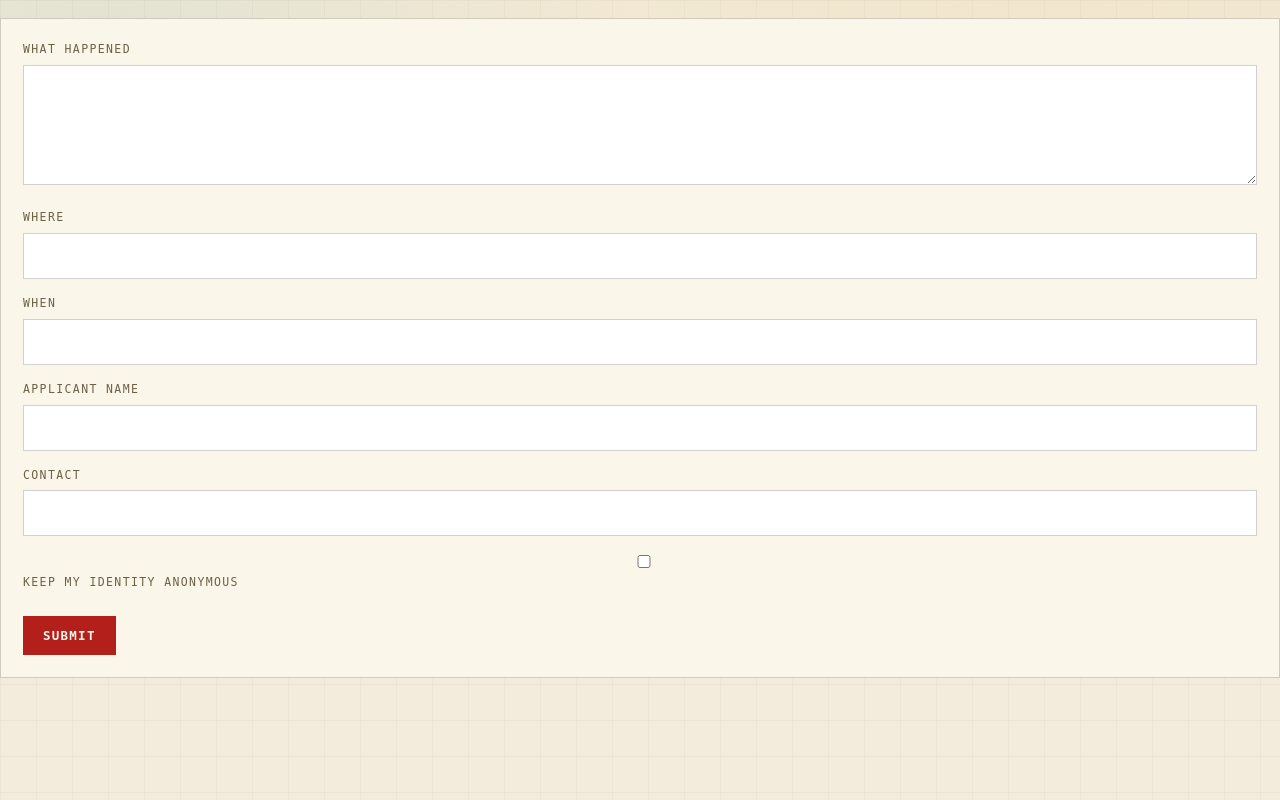
Test: ResponseIntakeForm › requires a narrative
The image size is (1280, 800).
Click the button "Submit" at (69, 636), box left=23, top=616, right=116, bottom=655
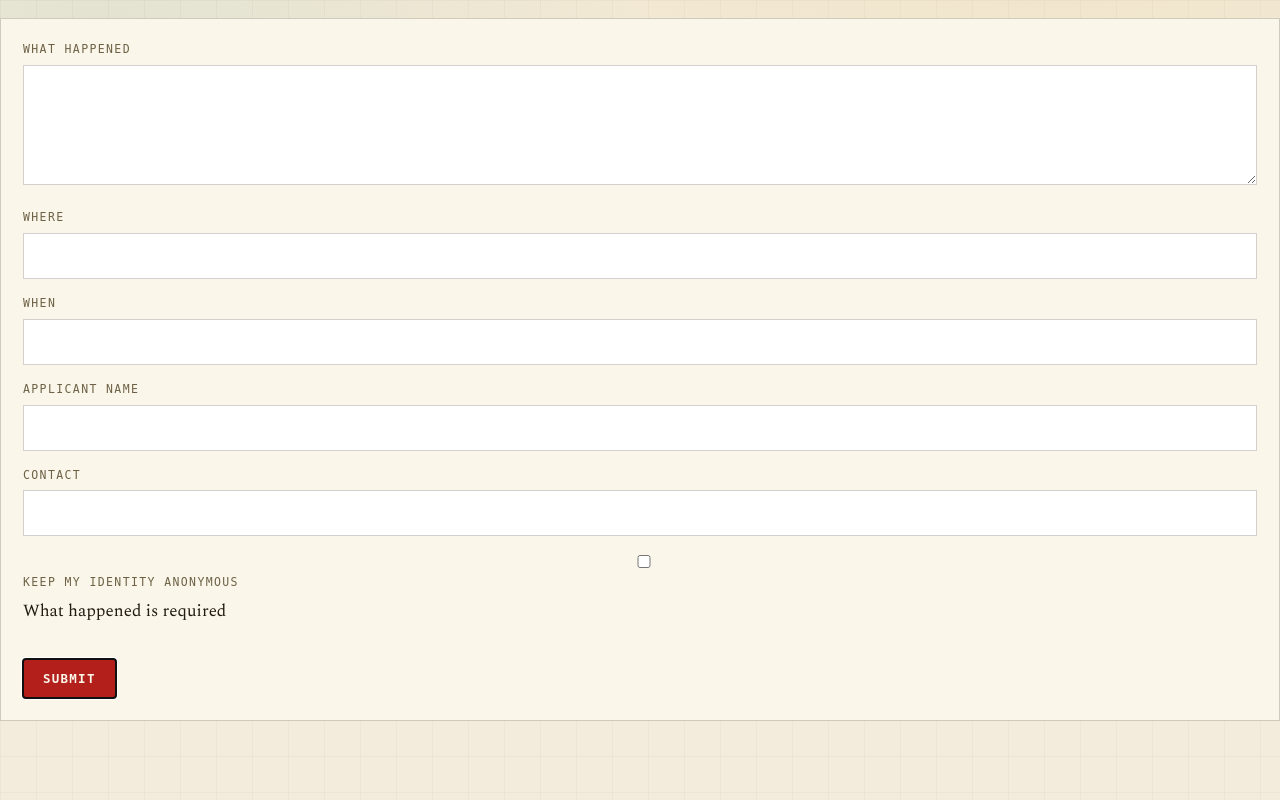
Check: the message shows "What happened", box left=23, top=598, right=226, bottom=624
